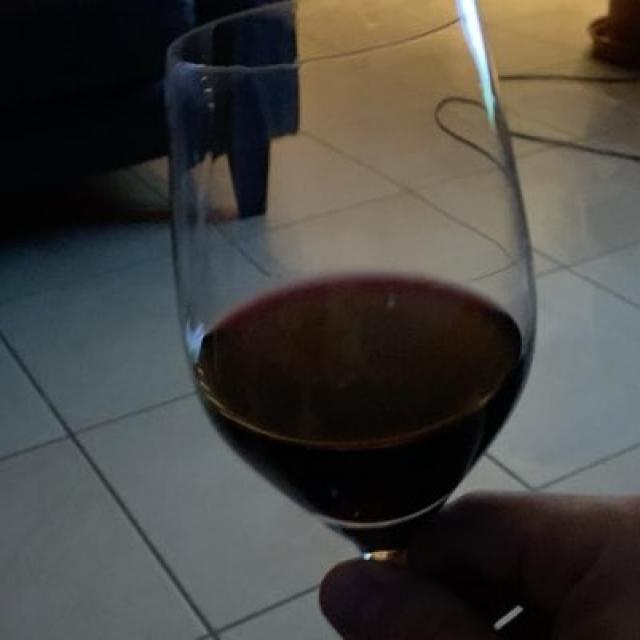wine: (211, 286, 513, 510)
